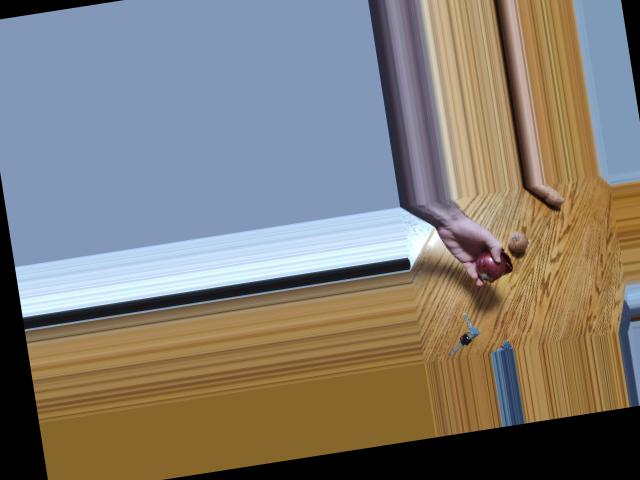onion: (500, 227, 527, 254)
